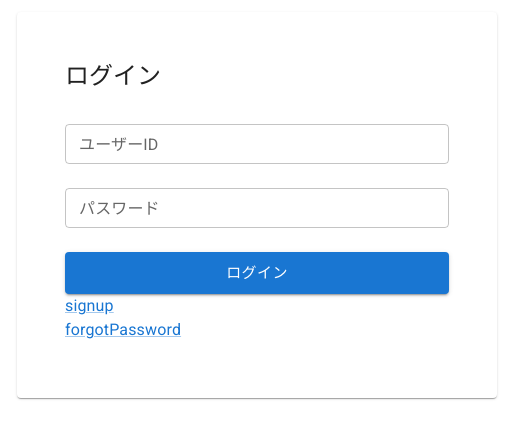
it: SignIn › パスワードが未入力の場合、エラーメッセージが表示される
The image size is (515, 441).
Type "sample@example.com" into the field labelled "ユーザーID" at [257, 144], box [65, 124, 449, 164]
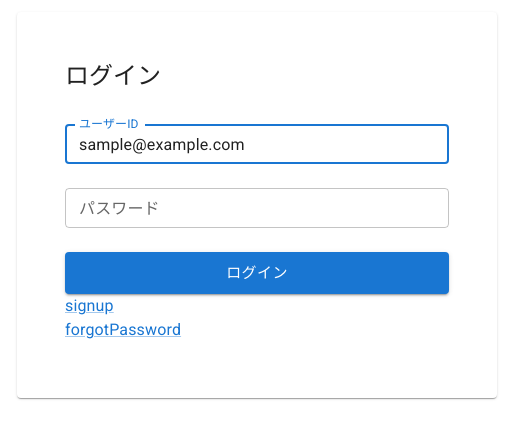
Click the button "ログイン" at [257, 273], box [65, 252, 449, 294]
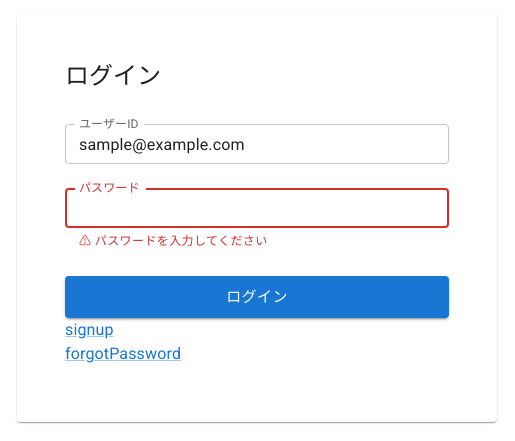
Now the text "⚠ パスワードを入力してください" is shown, box [79, 234, 268, 248]
